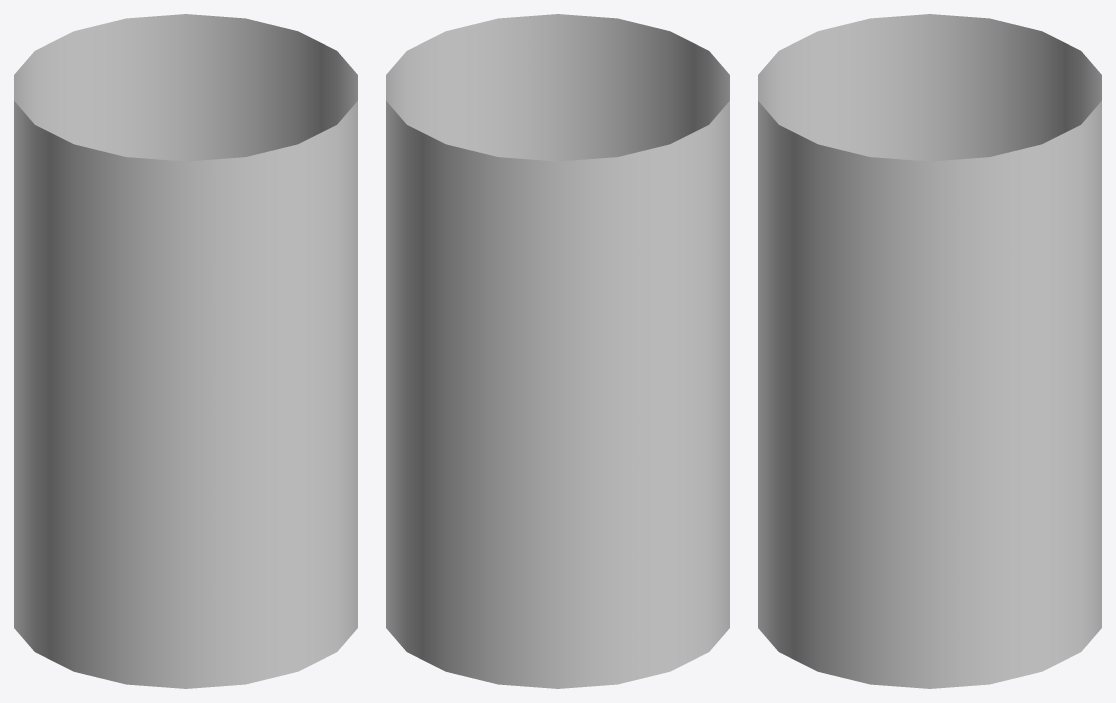
Rendered from yuanzhu1.FBX.
3 views of the same model, side by side, from view 1: azimuth 30°, elevation 25°; view 2: azimuth 150°, elevation 25°; view 3: azimuth 270°, elevation 25° (orthographic).
Visible parts, largest first — view 1: yuanzhu1; view 2: yuanzhu1; view 3: yuanzhu1.
Part boxes in pixels (bbox=[...]): yuanzhu1: bbox=[14, 14, 357, 688]; yuanzhu1: bbox=[386, 14, 729, 688]; yuanzhu1: bbox=[758, 14, 1101, 688].
Bounding box in the file's own units: 60 × 100 × 59.09.
